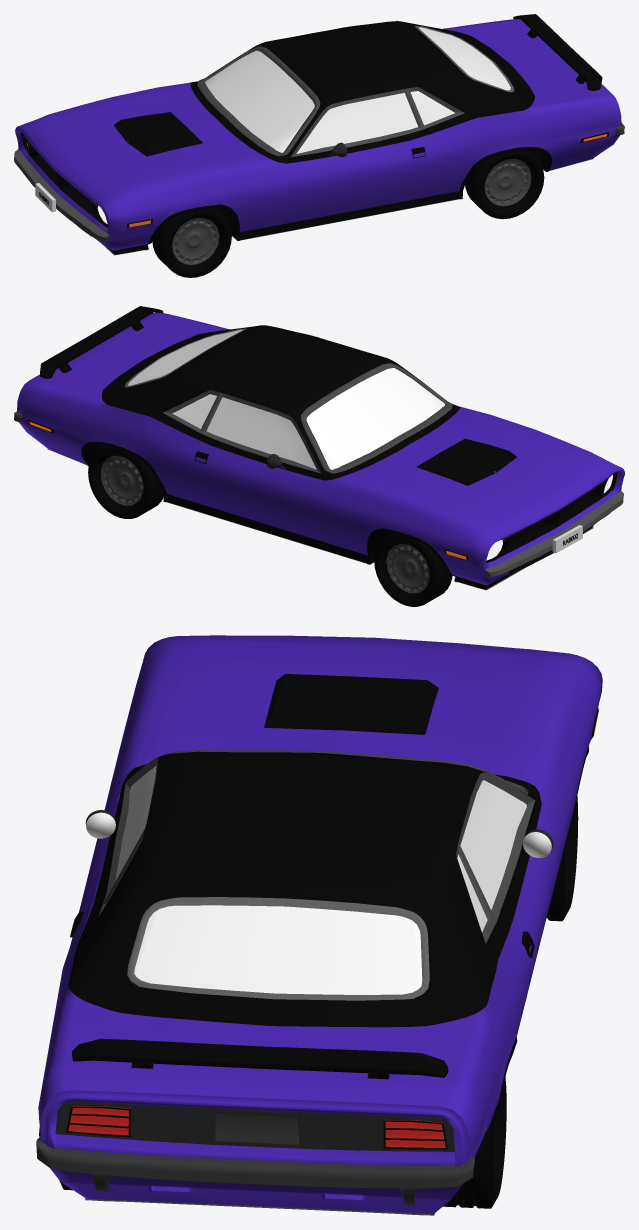
Rendered from car_2.glb.
3 views of the same model, one above another, from view 1: azimuth 30°, elevation 25°; view 2: azimuth 150°, elevation 25°; view 3: azimuth 270°, elevation 25° (orthographic). The views are drawn at different scales.
Visible parts, largest first — view 1: Low poly plymouth car.008; view 2: Low poly plymouth car.008, RAB002; view 3: Low poly plymouth car.008.
Boxes of the visible parts, left/top/right/bottom form: Low poly plymouth car.008: left=14, top=14, right=624, bottom=277; Low poly plymouth car.008: left=14, top=306, right=624, bottom=606; RAB002: left=552, top=525, right=582, bottom=553; Low poly plymouth car.008: left=36, top=635, right=602, bottom=1215.
Bounding box in the file's own units: 2.8 × 0.7482 × 1.32.
